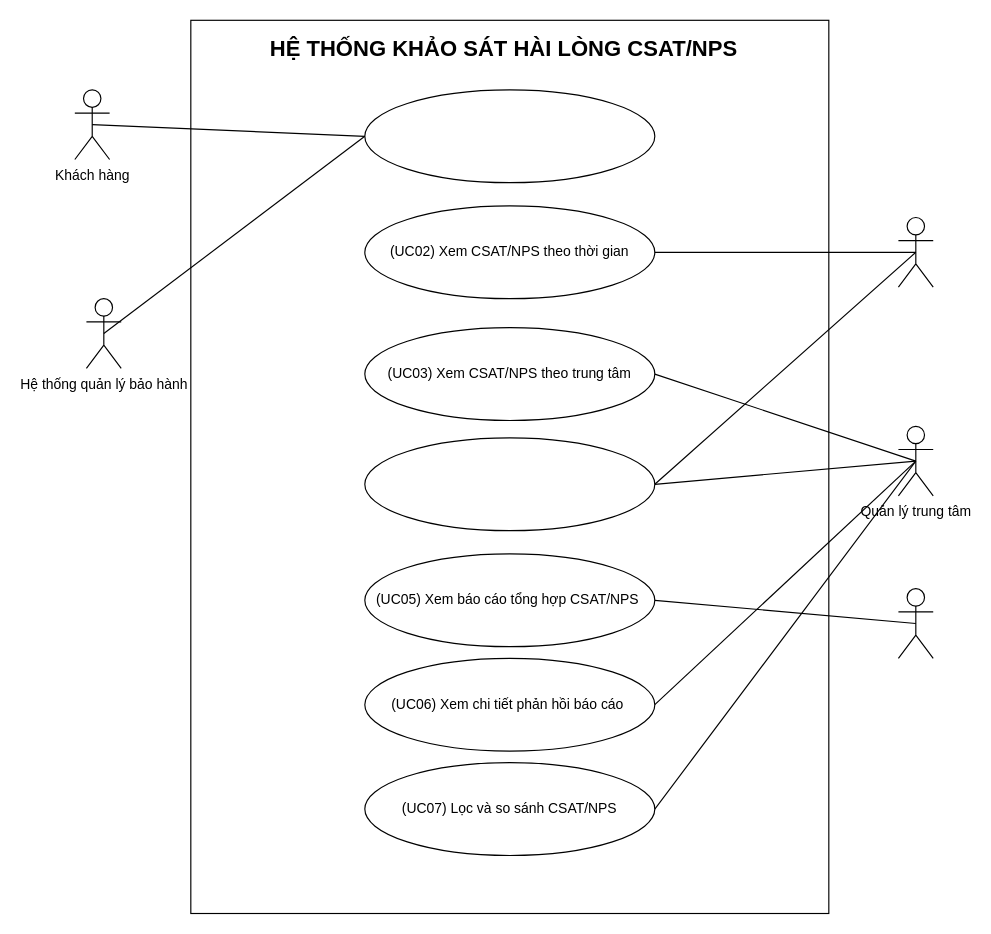
Some shapes in this 991 by 934 pixel diagram are drawn without their labels. Each missing label, with the centre of its shape:
(UC01) Lưu phản hồi khảo sát CSAT/NPS: the point at 509,136
(UC04) Xem CSAT/NPS theo kỹ thuật viên: the point at 509,484
Ban giám đốc: the point at 915,623
Marketing: the point at 915,251
